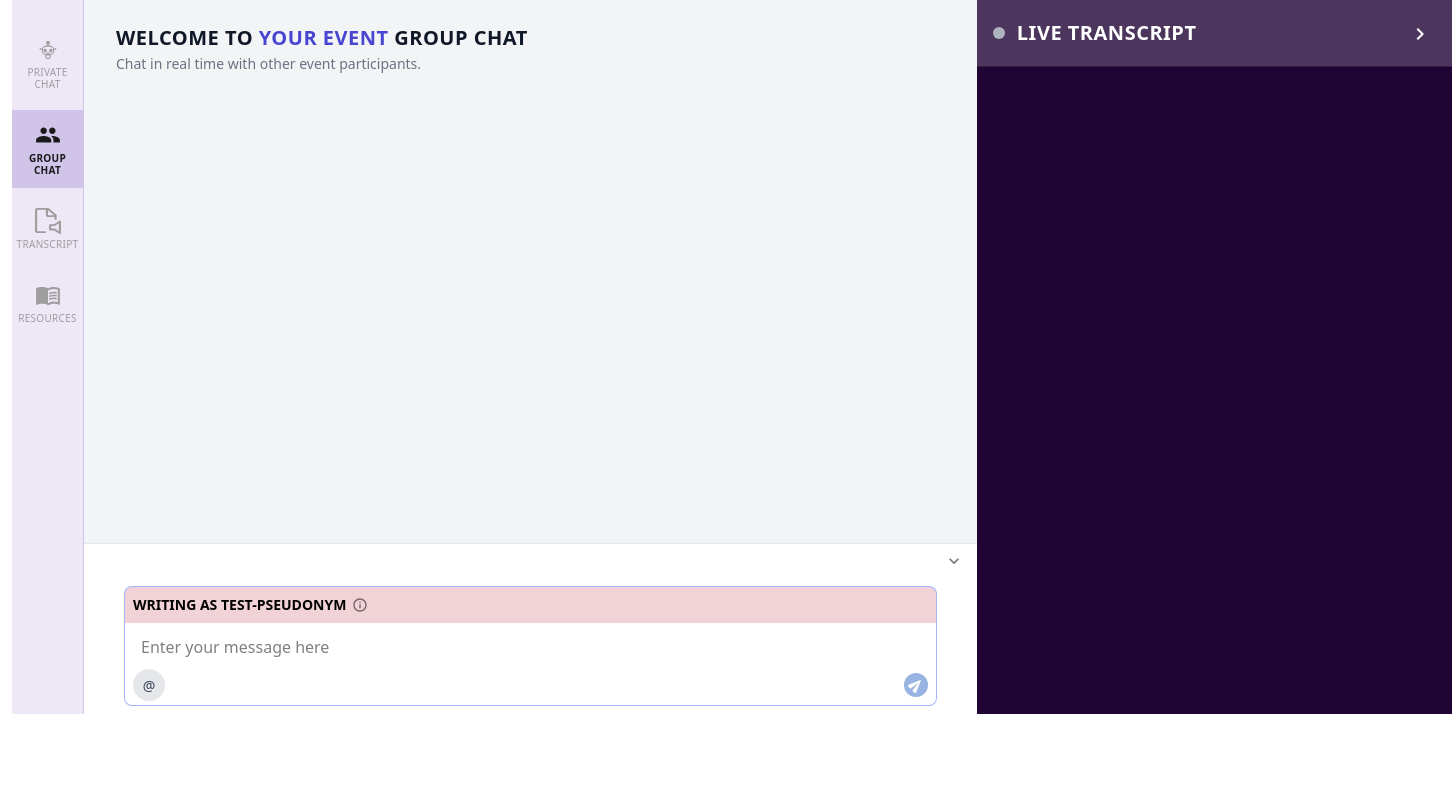
Scenario: EventAssistantRoom › shows inactive notice when conversation has no event assistant agent
Click the button "Private Chat".
click(48, 63)  # box [12,24,83,102]
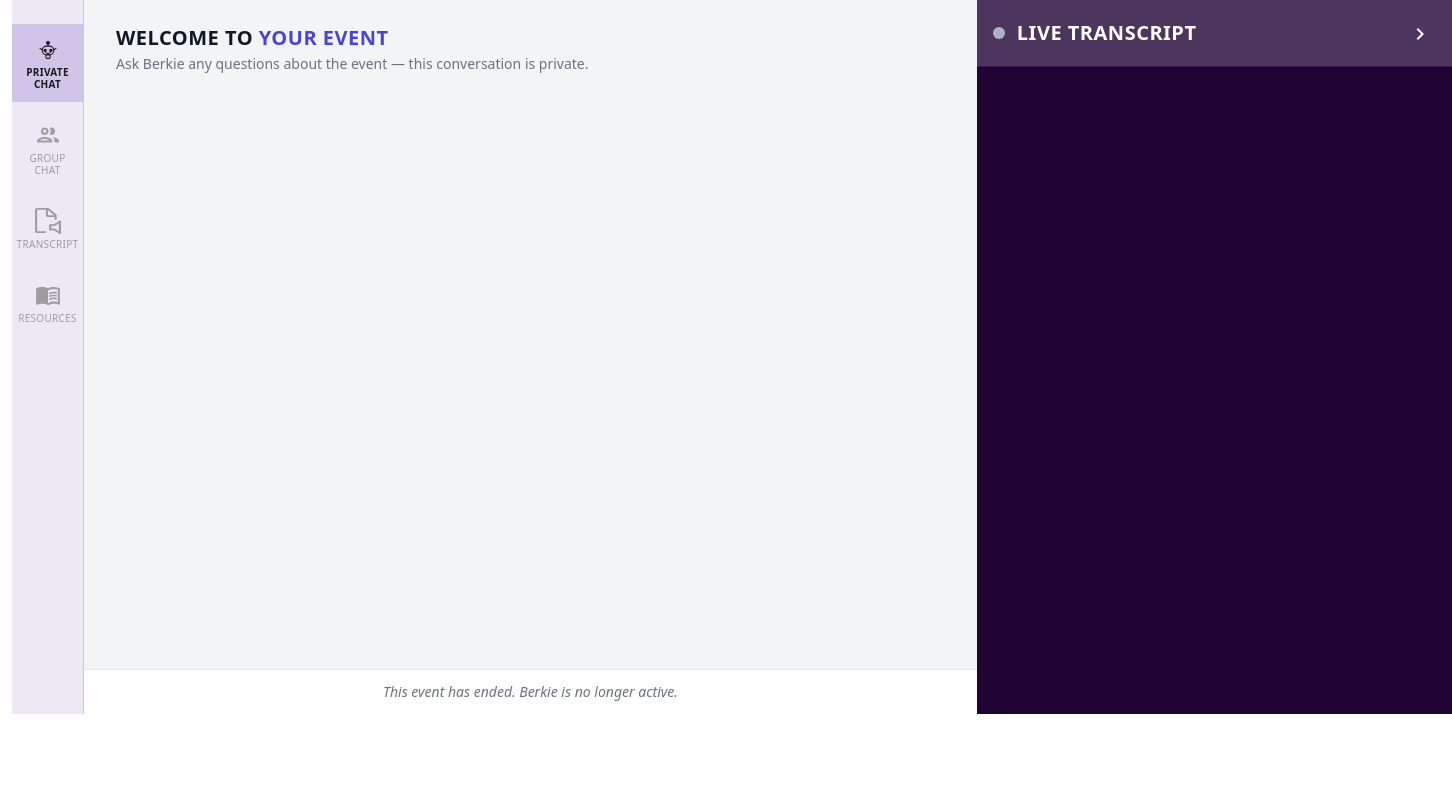
Check: the text "This event has ended. Berkie is no longer active." is shown, box [84,669,977,714]
